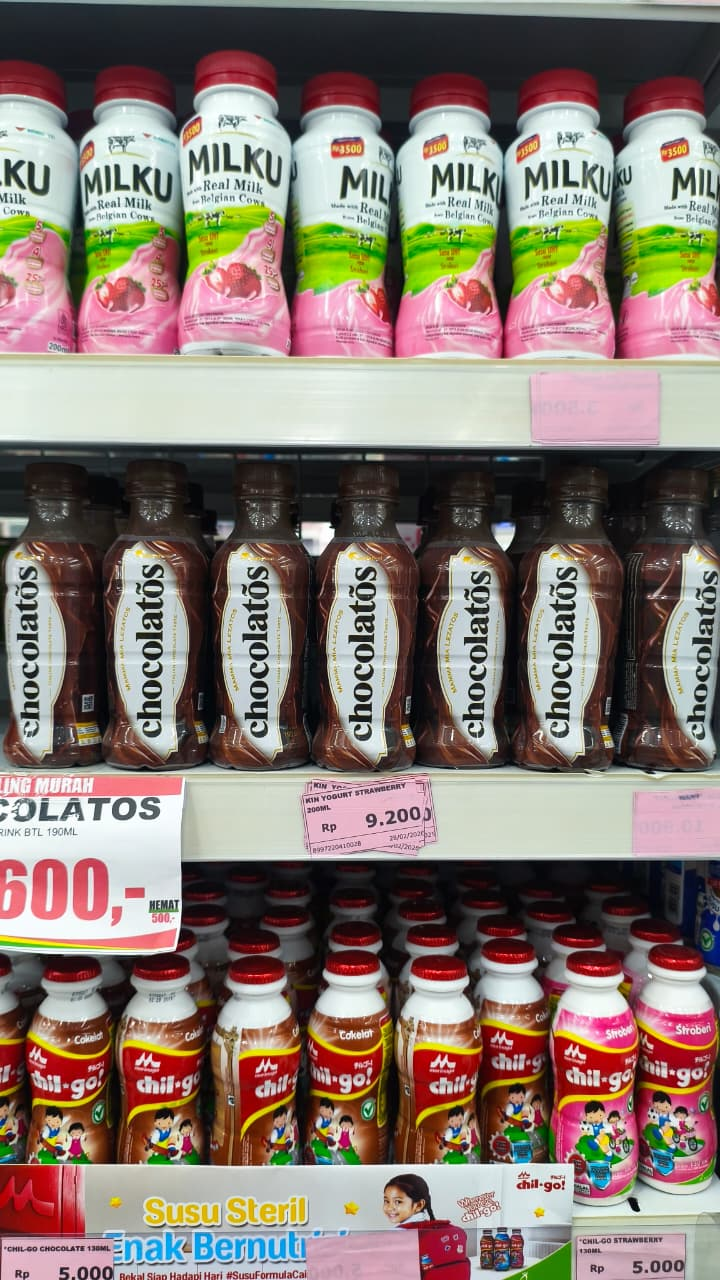Chocolatos: (110, 530, 198, 755), (326, 535, 414, 760), (521, 535, 609, 760)
Milku: (176, 119, 294, 341), (504, 131, 622, 353)
